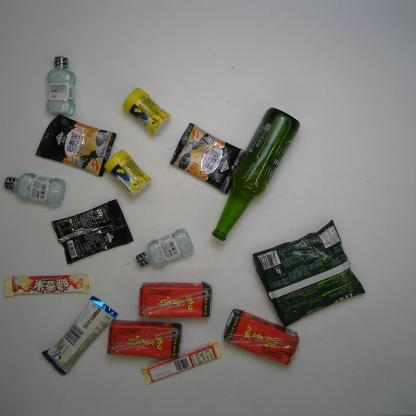Alcohol: (211, 107, 301, 244)
Chocolate: (40, 295, 118, 376), (139, 338, 223, 386), (4, 272, 90, 298)
Drink: (222, 308, 301, 366), (106, 318, 184, 359), (138, 280, 213, 318)
Gum: (103, 148, 153, 200), (122, 86, 172, 137)
Instant Drink: (168, 121, 246, 195), (50, 198, 134, 265), (34, 114, 118, 178)
Instant Noodles: (252, 219, 367, 328)
Personal Hygiene: (135, 226, 194, 270), (3, 172, 68, 207), (45, 55, 77, 117)
